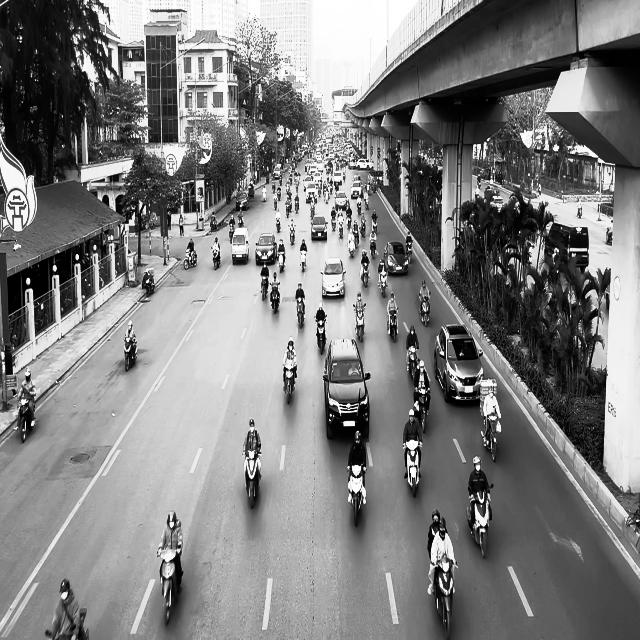car: (322, 338, 370, 440), (434, 324, 484, 403), (321, 257, 346, 298), (383, 241, 409, 275), (255, 233, 277, 265), (231, 227, 249, 265), (311, 215, 328, 241), (236, 191, 250, 210)
motorbike: (431, 557, 457, 639), (466, 484, 493, 558), (156, 548, 181, 625), (347, 464, 366, 526), (402, 439, 422, 497), (243, 449, 262, 509), (16, 392, 36, 443), (481, 412, 501, 462), (414, 388, 430, 433), (282, 362, 296, 403), (124, 334, 138, 372), (353, 303, 366, 341), (406, 345, 419, 383), (315, 316, 327, 354), (142, 268, 155, 296), (387, 308, 398, 341), (419, 294, 430, 326), (269, 281, 280, 313), (183, 247, 197, 269), (296, 296, 305, 328), (360, 260, 370, 287), (378, 266, 387, 296), (211, 246, 221, 270), (260, 274, 269, 300), (277, 248, 286, 272), (300, 248, 306, 271), (406, 240, 412, 262), (289, 224, 295, 244), (210, 214, 217, 231), (229, 223, 235, 242)
